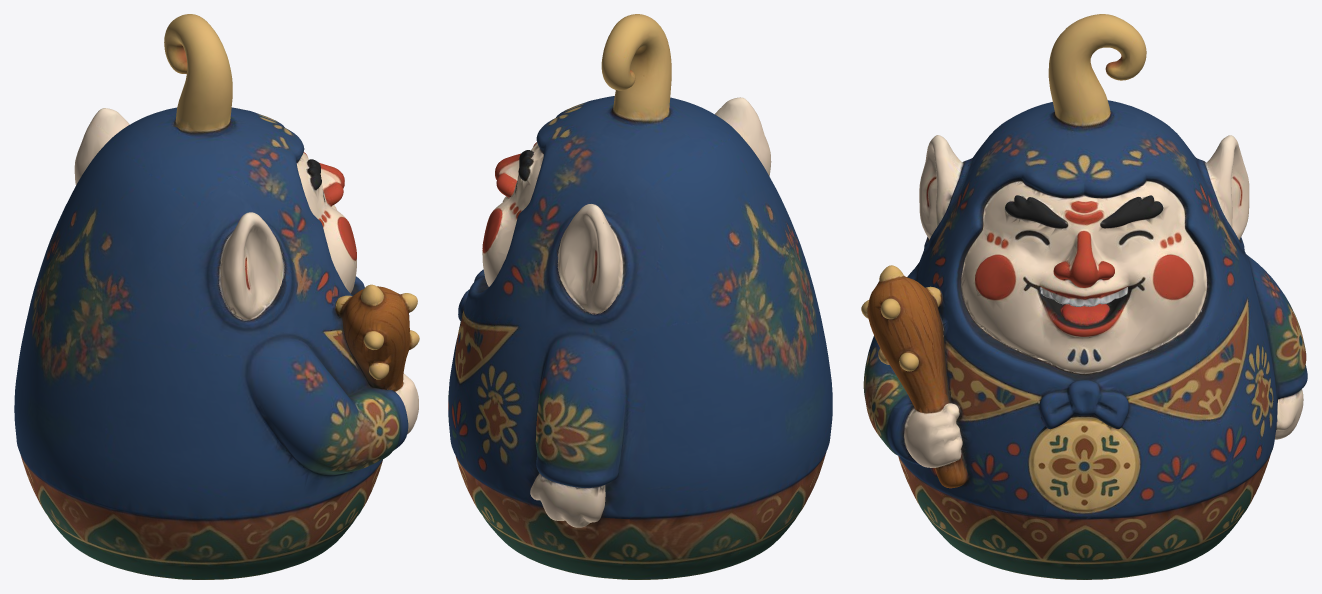
File: KR_사물_s1_deco_dokkaebi_old.glb
3 renders of one model, left to right at view 1: azimuth 30°, elevation 25°; view 2: azimuth 150°, elevation 25°; view 3: azimuth 270°, elevation 25°, orthographic. The views are drawn at different scales.
Parts seen in each view (by area): view 1: tripo_node_ece3eb96-16d8-4804-8289-c7020a684814; view 2: tripo_node_ece3eb96-16d8-4804-8289-c7020a684814; view 3: tripo_node_ece3eb96-16d8-4804-8289-c7020a684814.
Part boxes in pixels (bbox=[...]): tripo_node_ece3eb96-16d8-4804-8289-c7020a684814: bbox=[14, 14, 419, 579]; tripo_node_ece3eb96-16d8-4804-8289-c7020a684814: bbox=[448, 14, 832, 579]; tripo_node_ece3eb96-16d8-4804-8289-c7020a684814: bbox=[861, 14, 1307, 579].
Bounding box in the file's own units: 0.6782 × 0.9999 × 0.7952.
1 material, 1 textured.
